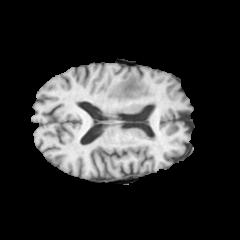glioma: (107, 74, 155, 105)
